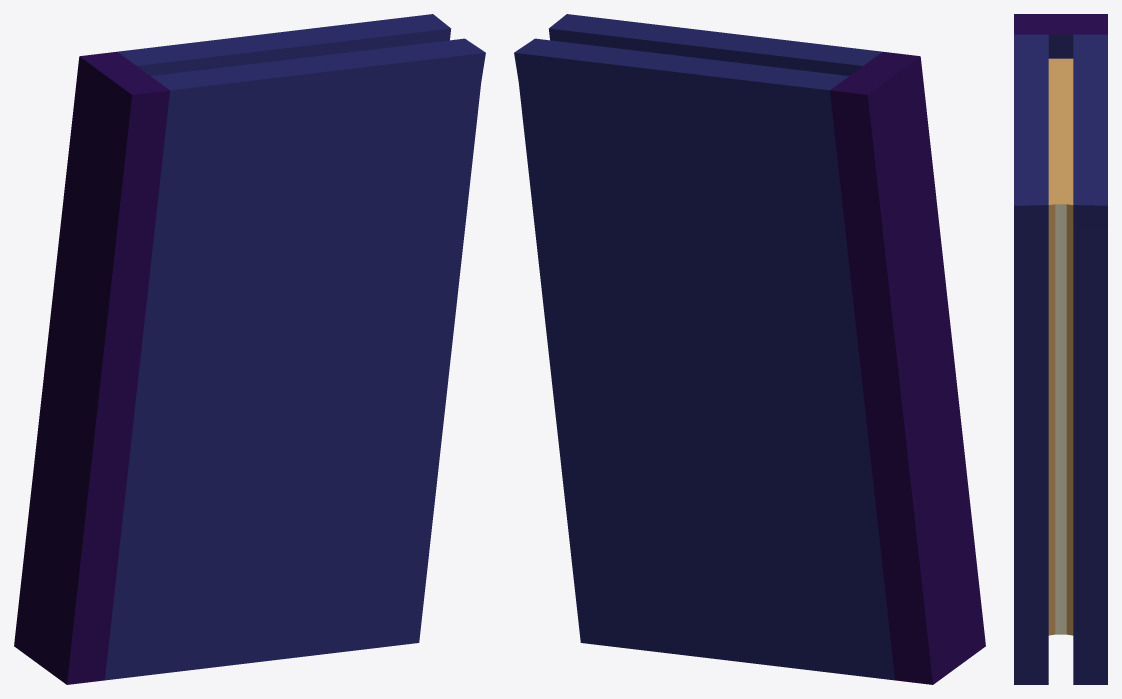
File: Item_Book.fbx
3 views of the same model, side by side, from view 1: azimuth 30°, elevation 25°; view 2: azimuth 150°, elevation 25°; view 3: azimuth 270°, elevation 25° (orthographic). The views are drawn at different scales.
Parts seen in each view (by area): view 1: Books.017; view 2: Books.017; view 3: Books.017.
Part boxes in pixels (box(x1,y1,x2,y2)): Books.017: box(14, 14, 485, 684); Books.017: box(514, 14, 985, 684); Books.017: box(1014, 14, 1107, 684).
Bounding box in the file's own units: 63.76 × 89.84 × 13.94.
